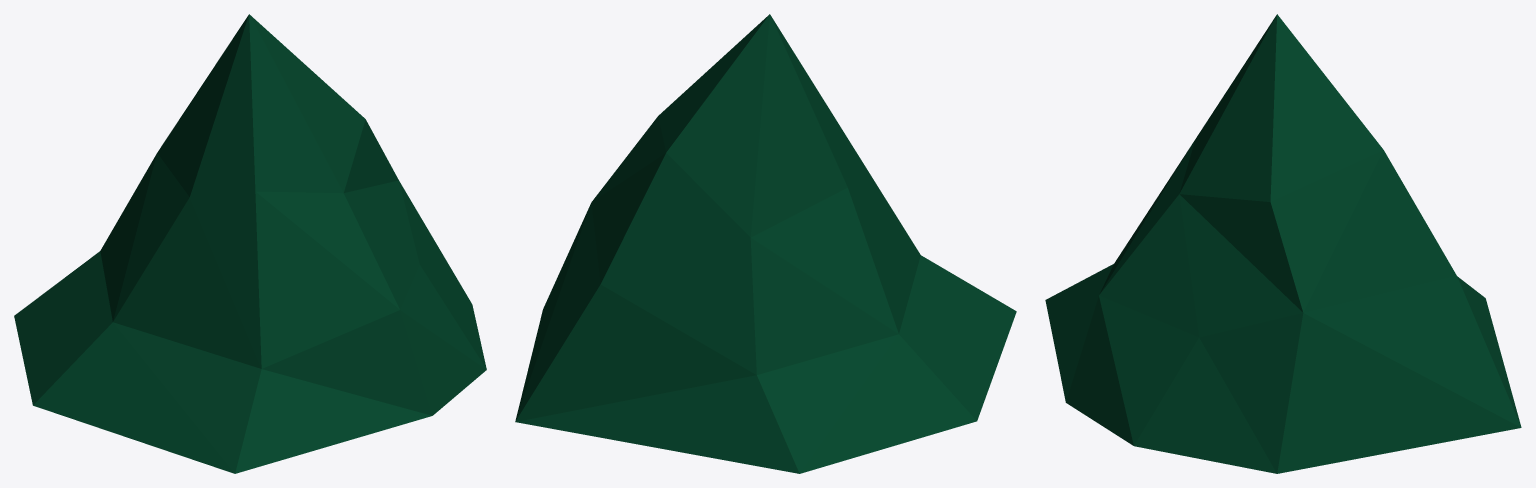
Rendered from mtBig_mountainA.FBX.
3 views of the same model, side by side, from view 1: azimuth 30°, elevation 25°; view 2: azimuth 150°, elevation 25°; view 3: azimuth 270°, elevation 25° (orthographic).
Visible parts, largest first — view 1: mtBig_mountainA; view 2: mtBig_mountainA; view 3: mtBig_mountainA.
Part boxes in pixels (x1,y1,x2,y2): mtBig_mountainA: [14, 14, 486, 473]; mtBig_mountainA: [515, 14, 1016, 473]; mtBig_mountainA: [1045, 14, 1521, 473].
Bounding box in the file's own units: 503 × 383 × 473.
